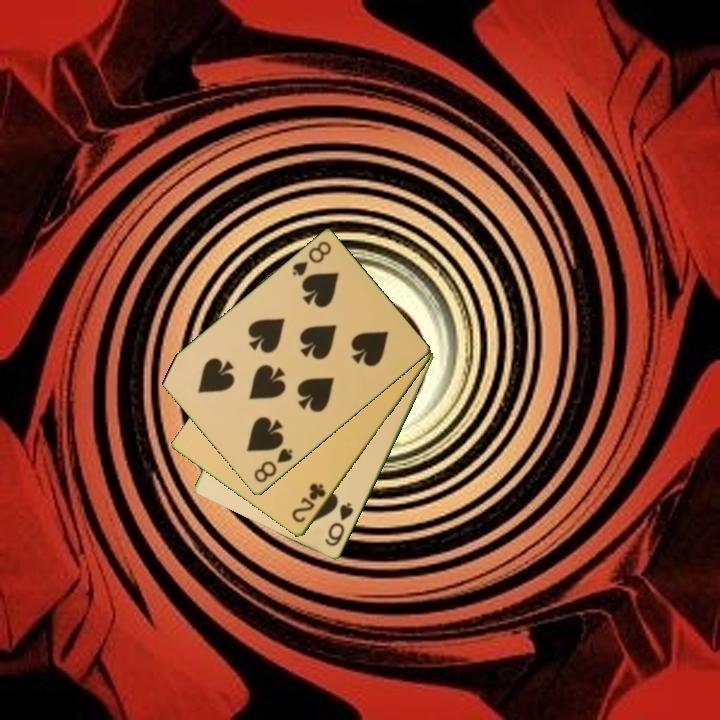2c: (288, 480, 329, 526)
6s: (321, 499, 357, 550)
8s: (250, 445, 296, 486), (288, 238, 334, 279)
